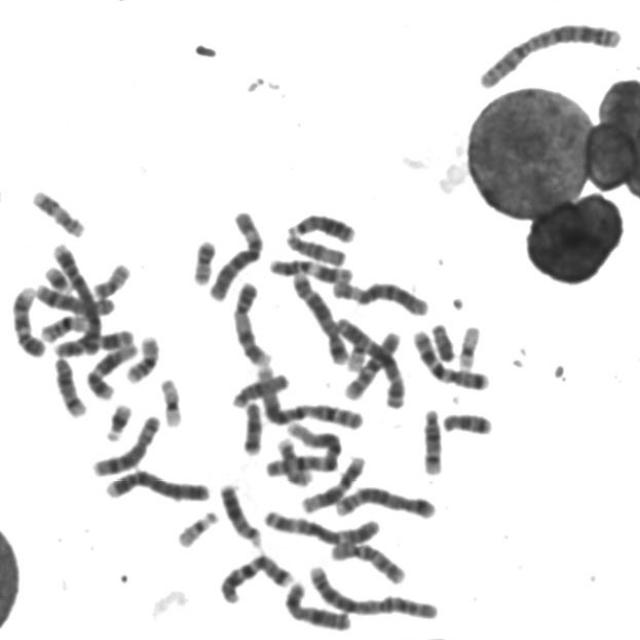A1: (250, 360, 366, 431), (260, 416, 346, 478)
A2: (472, 15, 626, 90), (303, 558, 443, 622)
A3: (332, 312, 408, 409), (259, 502, 384, 547)
B4: (47, 236, 105, 358), (100, 463, 214, 504)
B5: (288, 265, 351, 365), (330, 480, 440, 521)
C10: (341, 324, 405, 403), (326, 534, 410, 586)
C11: (50, 322, 139, 358), (265, 251, 357, 284)
C12: (297, 448, 369, 514), (82, 336, 140, 400)
C6: (205, 204, 267, 302), (328, 272, 432, 317)
C7: (408, 322, 494, 391), (216, 546, 298, 605)
C8: (88, 408, 164, 478), (31, 277, 119, 317)
C9: (228, 275, 275, 367), (8, 278, 50, 359)
D13: (215, 476, 266, 548), (284, 206, 360, 245)
D14: (50, 351, 90, 418), (417, 400, 447, 477)
D15: (228, 366, 293, 410), (282, 226, 350, 267)
E16: (120, 328, 163, 385), (37, 308, 91, 344)
E17: (27, 183, 88, 238), (272, 431, 314, 488)
E18: (238, 394, 267, 456), (438, 405, 496, 436)
F19: (155, 370, 187, 429), (453, 319, 484, 371)
F20: (88, 256, 134, 300), (188, 233, 220, 287)
G21: (100, 397, 136, 442), (39, 258, 76, 295)
G22: (171, 503, 222, 549), (342, 335, 371, 371)
X: (280, 575, 356, 633)
Y: (426, 316, 459, 363)
